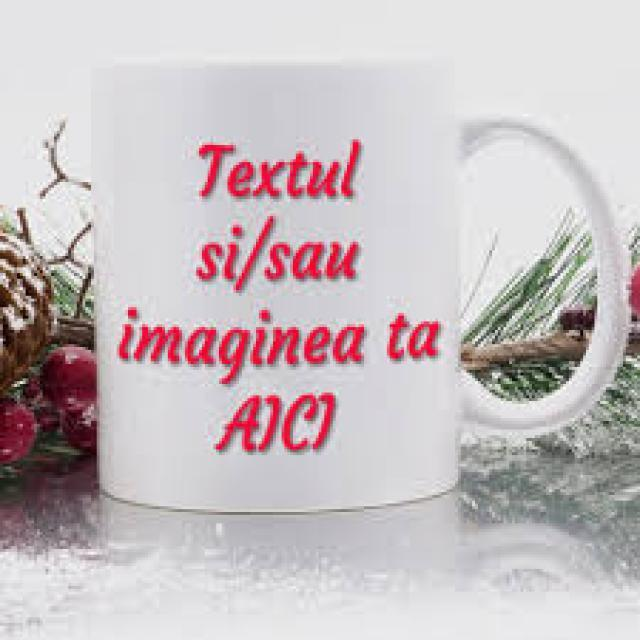taza: (74, 49, 632, 522)
